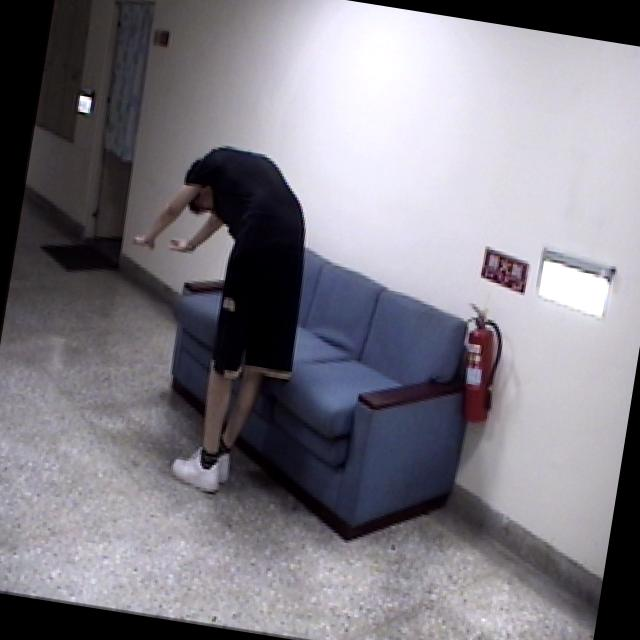bend: (92, 128, 334, 508)
